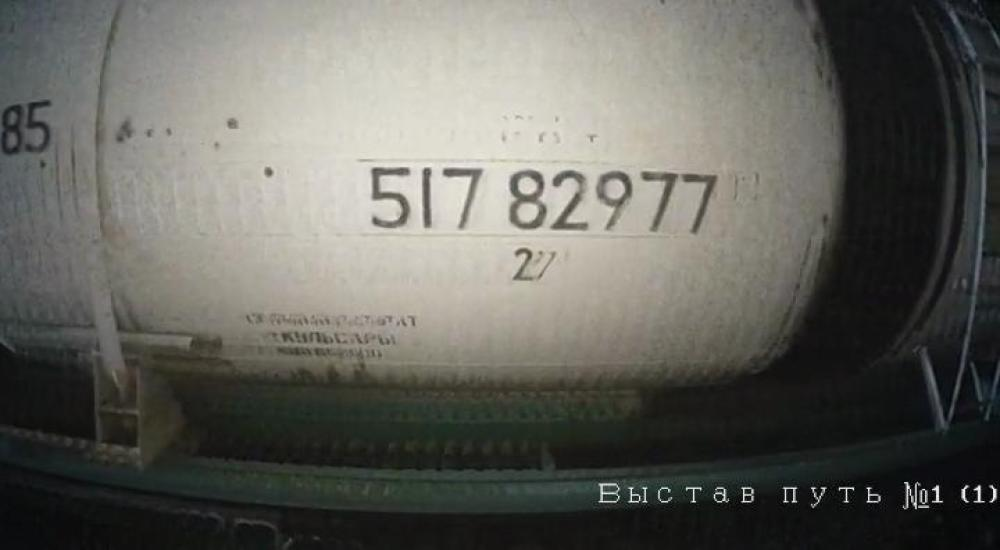Wagon-number: (364, 161, 719, 238)
